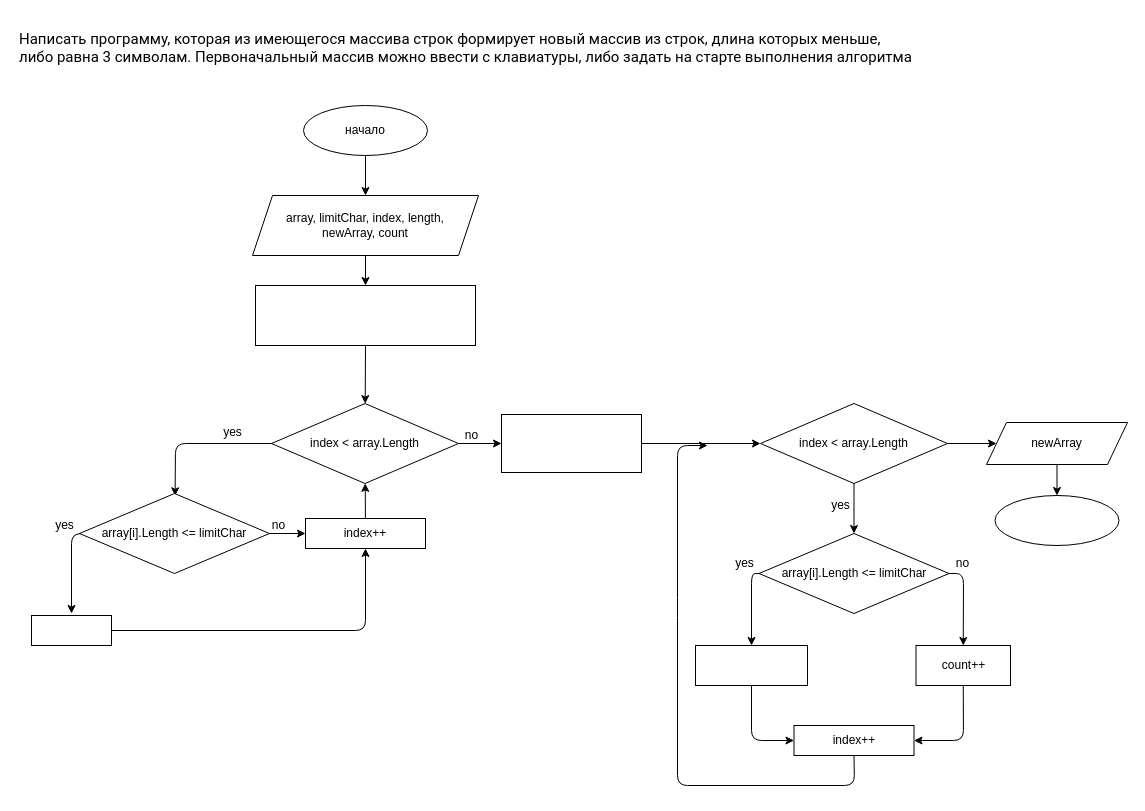
Image size: 1145x811. Some labels were removed from this diagram. The shapes that lost their labels are listed below. From the top down, each one's centre as x and y in pixels, then its label:
pixel 365 315: array = ["Hello", "2", "world", ":-)" ] limitChar = 3 index = 0 length = 0
pixel 571 443: index = 0 count=0 newArray.Length = length
pixel 1056 520: конец
pixel 71 630: length++
pixel 751 665: newArray[i-count] = array[i]
